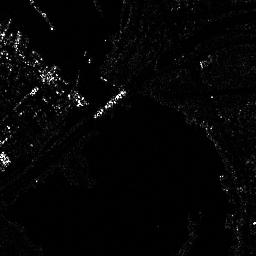ship: (92, 87, 130, 118)
